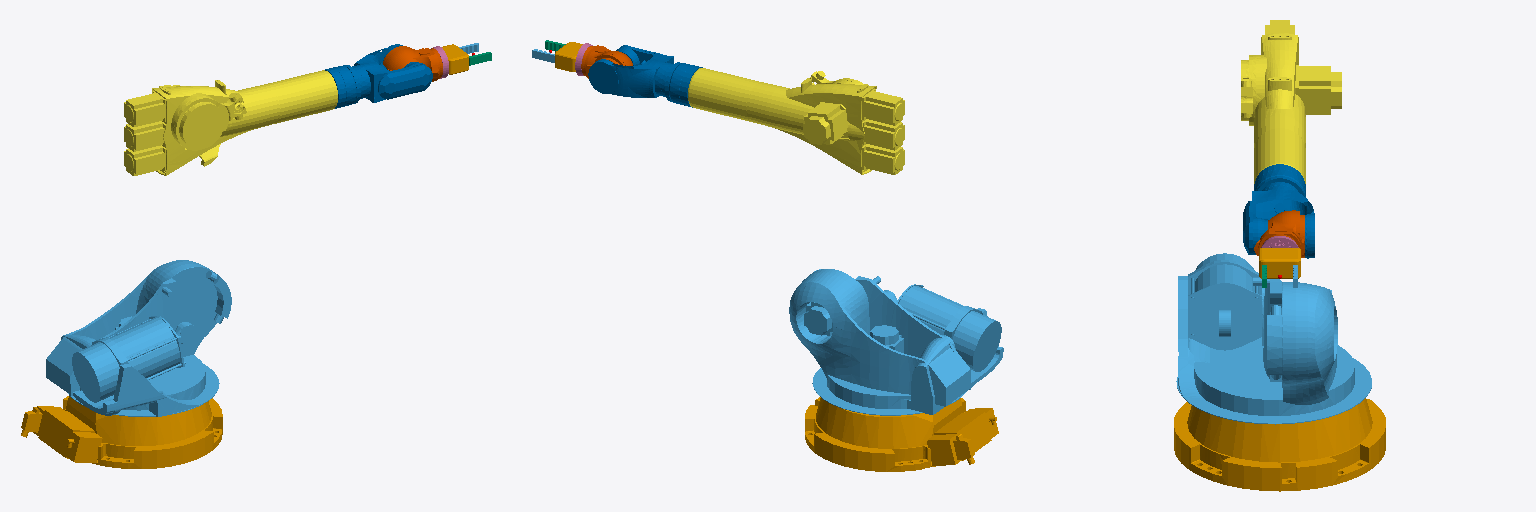
URDF robot description (robot):
<?xml version="1.0" encoding="utf-8"?>
<robot name="robot">
  <joint name="joint_1" type="revolute">
    <origin xyz="0. 0. 0.33" rpy="0. -1.5707964 0. " />
    <parent link="robot" />
    <child link="robot_kuka_arm_link_1_kuka_arm_link_1" />
    <axis xyz="1. 0. 0." />
    <limit lower="-3.2288596" upper="3.2288596" effort="0." velocity="17453.2925199" />
  </joint>
  <joint name="joint_2" type="revolute">
    <origin xyz="0.42 0. -0.35" rpy="1.5707964 0. 1.5707964" />
    <parent link="robot_kuka_arm_link_1_kuka_arm_link_1" />
    <child link="kuka_arm_link_2" />
    <axis xyz="1. 0. 0." />
    <limit lower="-0.785398" upper="1.48353" effort="0." velocity="17453.2925199" />
  </joint>
  <joint name="joint_3" type="revolute">
    <origin xyz="0. 0. 1.25" rpy="0. 0. 0." />
    <parent link="kuka_arm_link_2" />
    <child link="kuka_arm_link_3" />
    <axis xyz="1. 0. 0." />
    <limit lower="-3.6651898" upper="1.1344599" effort="0." velocity="17453.2925199" />
  </joint>
  <joint name="joint_4" type="revolute">
    <origin xyz="0. -0.9599999 -0.054 " rpy="0. 0. -1.5707964" />
    <parent link="kuka_arm_link_3" />
    <child link="kuka_arm_link_4" />
    <axis xyz="1. 0. 0." />
    <limit lower="-6.1086497" upper="6.1086497" effort="0." velocity="17453.2925199" />
  </joint>
  <joint name="joint_5" type="revolute">
    <origin xyz="0.54 0. 0. " rpy="0. 0. 1.5707964" />
    <parent link="kuka_arm_link_4" />
    <child link="kuka_arm_link_5" />
    <axis xyz="1. 0. 0." />
    <limit lower="-2.1816598" upper="2.1816598" effort="0." velocity="17453.2925199" />
  </joint>
  <joint name="joint_6" type="revolute">
    <origin xyz="0. -0.1930001 0. " rpy="0. 0. -1.5707964" />
    <parent link="kuka_arm_link_5" />
    <child link="kuka_arm_link_6" />
    <axis xyz="1. 0. 0." />
    <limit lower="-6.1086497" upper="6.1086497" effort="0." velocity="17453.2925199" />
  </joint>
  <joint name="left_gripper_finger_joint" type="prismatic">
    <origin xyz="0.26 0.0725 0. " rpy="3.1415927 0. -1.5707964" />
    <parent link="kuka_arm_link_6" />
    <child link="left_gripper_finger_link" />
    <axis xyz="1. 0. 0." />
    <limit lower="-0.01" upper="0.06" effort="0." velocity="1000000." />
  </joint>
  <joint name="right_gripper_finger_joint" type="prismatic">
    <origin xyz="0.26 -0.0725 0. " rpy="0. 0. 1.5707964" />
    <parent link="kuka_arm_link_6" />
    <child link="right_gripper_finger_link" />
    <axis xyz="1. 0. 0." />
    <limit lower="-0.01" upper="0.06" effort="0." velocity="1000000." />
  </joint>
  <link name="robot">
    <visual>
      <origin xyz="0. 0. 0." rpy="-0.0000091 0. 0. " />
      <geometry>
        <mesh filename="meshes/worldBody___visuals___mesh.obj" scale="1. 1. 1." />
      </geometry>
    </visual>
  </link>
  <link name="robot_kuka_arm_link_1_kuka_arm_link_1">
    <visual>
      <origin xyz="0. 0. 0." rpy="1.570788 1.5707964 0. " />
      <geometry>
        <mesh filename="meshes/robot_kuka_arm_link_1_kuka_arm_link_1_visuals_mesh.obj" scale="1. 1. 1." />
      </geometry>
    </visual>
    <visual>
      <origin xyz="0. 0. 0." rpy="1.570788 1.5707964 0. " />
      <geometry>
        <mesh filename="meshes/robot_kuka_arm_link_1_kuka_arm_link_1_collisions_mesh.obj" scale="1. 1. 1." />
      </geometry>
    </visual>
    <collision name="sphere_23">
      <origin xyz="0.3853171231791153 3.016968403539145e-18 -0.40294019359870453" rpy="0 0 0" />
      <geometry>
        <sphere radius="0.2969944905889949" />
      </geometry>
    </collision>
    <collision name="sphere_24">
      <origin xyz="0.3039056973264224 0.11361252012600448 0.26311786827710804" rpy="0 0 0" />
      <geometry>
        <sphere radius="0.3855194494710704" />
      </geometry>
    </collision>
    <collision name="sphere_25">
      <origin xyz="0.22964270798733716 -0.200145579561204 0.3321878437575019" rpy="0 0 0" />
      <geometry>
        <sphere radius="0.33548914118220985" />
      </geometry>
    </collision>
    <collision name="sphere_26">
      <origin xyz="0.35967081545282925 -0.27340428279409357 -0.03932870071404963" rpy="0 0 0" />
      <geometry>
        <sphere radius="0.24332780241870738" />
      </geometry>
    </collision>
    <collision name="sphere_27">
      <origin xyz="0.3497125792823665 0.1622123310040399 -0.07363408827195533" rpy="0 0 0" />
      <geometry>
        <sphere radius="0.3158090818304898" />
      </geometry>
    </collision>
  </link>
  <link name="kuka_arm_link_2">
    <visual>
      <origin xyz="0. 0. 0." rpy="-0.0000091 0. -1.5707964" />
      <geometry>
        <mesh filename="meshes/kuka_arm_link_2_visuals_mesh.obj" scale="1. 1. 1." />
      </geometry>
    </visual>
    <collision name="sphere_0">
      <origin xyz="-0.10056914088729499 0.0 0.0" rpy="0 0 0" />
      <geometry>
        <sphere radius="0.312562771404809" />
      </geometry>
    </collision>
    <collision name="sphere_1">
      <origin xyz="-0.20296284362704328 -5.551115123125783e-17 0.19267381739225486" rpy="0 0 0" />
      <geometry>
        <sphere radius="0.2882773280117739" />
      </geometry>
    </collision>
    <collision name="sphere_2">
      <origin xyz="-0.2688235077381462 0.0 0.5120850632241715" rpy="0 0 0" />
      <geometry>
        <sphere radius="0.2599685374907719" />
      </geometry>
    </collision>
    <collision name="sphere_3">
      <origin xyz="-0.2429457297559245 -1.6653345369377348e-16 0.7897212102688002" rpy="0 0 0" />
      <geometry>
        <sphere radius="0.25693811033217645" />
      </geometry>
    </collision>
    <collision name="sphere_4">
      <origin xyz="-0.2322697986708392 0.0 1.0466995171922129" rpy="0 0 0" />
      <geometry>
        <sphere radius="0.25693811033217645" />
      </geometry>
    </collision>
    <collision name="sphere_5">
      <origin xyz="-0.2018643112478043 -5.551115123125783e-17 1.2173413182504351" rpy="0 0 0" />
      <geometry>
        <sphere radius="0.23358661898327102" />
      </geometry>
    </collision>
  </link>
  <link name="kuka_arm_link_3">
    <visual>
      <origin xyz="-0.184 0. 0. " rpy="-0.0000091 0. -1.5707964" />
      <geometry>
        <mesh filename="meshes/kuka_arm_link_3_visuals_mesh.obj" scale="1. 1. 1." />
      </geometry>
    </visual>
    <collision name="sphere_6">
      <origin xyz="-1.3010518714054659e-17 0.31055029167029724 -0.03488192925599143" rpy="0 0 0" />
      <geometry>
        <sphere radius="0.32892536519372145" />
      </geometry>
    </collision>
    <collision name="sphere_7">
      <origin xyz="-0.010269733629968511 5.551115123125783e-17 0.0" rpy="0 0 0" />
      <geometry>
        <sphere radius="0.37246399938456065" />
      </geometry>
    </collision>
    <collision name="sphere_8">
      <origin xyz="-0.004899208735049537 -0.4036089099633981 -0.02669932418063703" rpy="0 0 0" />
      <geometry>
        <sphere radius="0.20655031539590454" />
      </geometry>
    </collision>
    <collision name="sphere_9">
      <origin xyz="-2.775566825985752e-17 -0.650587462939314 -0.05279828184548685" rpy="0 0 0" />
      <geometry>
        <sphere radius="0.20655031539590454" />
      </geometry>
    </collision>
    <collision name="sphere_10">
      <origin xyz="-1.3877880452043063e-17 -0.8658041427243452 -0.05263752410922362" rpy="0 0 0" />
      <geometry>
        <sphere radius="0.20655031539590454" />
      </geometry>
    </collision>
  </link>
  <link name="kuka_arm_link_4">
    <visual>
      <origin xyz="0. 0. 0." rpy="-0.0000091 0. 0. " />
      <geometry>
        <mesh filename="meshes/kuka_arm_link_4_visuals_mesh.obj" scale="1. 1. 1." />
      </geometry>
    </visual>
    <collision name="sphere_11">
      <origin xyz="0.047247304363761344 8.326678640389084e-17 -2.220446049250313e-16" rpy="0 0 0" />
      <geometry>
        <sphere radius="0.1794211617259098" />
      </geometry>
    </collision>
    <collision name="sphere_12">
      <origin xyz="0.3010660948523467 1.3877793763514867e-16 -4.440892098500626e-16" rpy="0 0 0" />
      <geometry>
        <sphere radius="0.1794211617259098" />
      </geometry>
    </collision>
    <collision name="sphere_13">
      <origin xyz="0.49201724313219164 2.775563517263302e-17 -2.220446049250313e-16" rpy="0 0 0" />
      <geometry>
        <sphere radius="0.24607203187629179" />
      </geometry>
    </collision>
  </link>
  <link name="kuka_arm_link_5">
    <visual>
      <origin xyz="0. 0.0000001 0. " rpy="-0.0000091 0. -1.5707964" />
      <geometry>
        <mesh filename="meshes/kuka_arm_link_5_visuals_mesh.obj" scale="1. 1. 1." />
      </geometry>
    </visual>
    <collision name="sphere_14">
      <origin xyz="-0.00517521934122922 -0.06717495437991183 2.220446049250313e-16" rpy="0 0 0" />
      <geometry>
        <sphere radius="0.2125868474637989" />
      </geometry>
    </collision>
  </link>
  <link name="kuka_arm_link_6">
    <visual>
      <origin xyz="0.0000001 0. 0. " rpy="1.570788 0. 0. " />
      <geometry>
        <mesh filename="meshes/kuka_arm_link_6_visuals_mesh.obj" scale="1. 1. 1." />
      </geometry>
    </visual>
  </link>
  <link name="gripper_tcp">
    <visual>
      <origin xyz="0.15 0 -0.05" rpy="0 0 0" />
      <geometry>
        <sphere radius="0.01" />
      </geometry>
      <material name="red">
        <color rgba="1 0 0 1" />
      </material>
    </visual>
  </link>
  <link name="gripper_link">
    <inertial>
      <origin rpy="0 0 0" xyz="0 0 0" />
      <mass value="0.3" />
      <inertia ixx="0.0001" ixy="0" ixz="0" iyy="0.0002" iyz="0" izz="0.0001" />
    </inertial>
    <visual>
      <origin rpy="0 0 0" xyz="0 0 0" />
      <geometry>
        <mesh filename="meshes/kuka_arm_link_6_visuals_gripper_base_mesh.obj" />
      </geometry>
    </visual>
    <collision name="sphere_15">
      <origin xyz="-0.008610050657241963 2.220446049250313e-16 5.789639601072594e-17" rpy="0 0 0" />
      <geometry>
        <sphere radius="0.12986939348734478" />
      </geometry>
    </collision>
  </link>
  <joint name="gripper_tcp_joint" type="fixed">
    <origin rpy="0 0 0" xyz="0 0 0.05" />
    <parent link="gripper_link" />
    <child link="gripper_tcp" />
  </joint>
  <joint name="gripper_joint" type="fixed">
    <parent link="kuka_arm_link_6" />
    <child link="gripper_link" />
    <origin rpy="1.57 0 0" xyz="0.11 0 0" />
    <axis xyz="0 1 0" />
  </joint>
  <link name="left_gripper_finger_link">
    <visual>
      <origin xyz="0. 0. 0." rpy="-1.5708046 0. -1.5707964" />
      <geometry>
        <mesh filename="meshes/left_gripper_finger_link_visuals_mesh.obj" scale="1. 1. 1." />
      </geometry>
    </visual>
    <collision name="sphere_19">
      <origin xyz="-0.0009867102377992681 0.028810712307991704 0.0" rpy="0 0 0" />
      <geometry>
        <sphere radius="0.029496874713989374" />
      </geometry>
    </collision>
    <collision name="sphere_20">
      <origin xyz="-0.0007529923397825294 4.440892098500626e-16 -2.220446049250313e-16" rpy="0 0 0" />
      <geometry>
        <sphere radius="0.029496874713989374" />
      </geometry>
    </collision>
    <collision name="sphere_21">
      <origin xyz="-0.0014462733000717848 -0.027893947890389903 0.0" rpy="0 0 0" />
      <geometry>
        <sphere radius="0.029496874713989374" />
      </geometry>
    </collision>
    <collision name="sphere_22">
      <origin xyz="-7.881778214532259e-05 -0.06047734771457369 0.00014119311356375341" rpy="0 0 0" />
      <geometry>
        <sphere radius="0.029496874713989374" />
      </geometry>
    </collision>
  </link>
  <link name="right_gripper_finger_link">
    <visual>
      <origin xyz="0. 0. 0." rpy="1.570788 0. -1.5707964" />
      <geometry>
        <mesh filename="meshes/right_gripper_finger_link_visuals_mesh.obj" scale="1. 1. 1." />
      </geometry>
    </visual>
    <collision name="sphere_16">
      <origin xyz="0.005412433844058935 0.01492794005638931 4.440892098500626e-16" rpy="0 0 0" />
      <geometry>
        <sphere radius="0.03133081721050732" />
      </geometry>
    </collision>
    <collision name="sphere_17">
      <origin xyz="0.004998117508912749 -0.02704602253331334 -2.220446049250313e-16" rpy="0 0 0" />
      <geometry>
        <sphere radius="0.03133081721050732" />
      </geometry>
    </collision>
    <collision name="sphere_18">
      <origin xyz="0.0014777731542005637 -0.06054847324793933 0.0005669492960314049" rpy="0 0 0" />
      <geometry>
        <sphere radius="0.03133081721050732" />
      </geometry>
    </collision>
  </link>
</robot>

--- Facts derived from the render (not from the file) ---
Views: 3 orthographic renders of the robot side by side, from view 1: azimuth 30°, elevation 25°; view 2: azimuth 150°, elevation 25°; view 3: azimuth 270°, elevation 25°.
Model robot with 11 links and 10 joints (6 revolute, 2 prismatic, 2 fixed), rooted at robot, posed every joint at zero.
Visible links, largest first — view 1: robot_kuka_arm_link_1_kuka_arm_link_1, kuka_arm_link_3, robot, kuka_arm_link_4, kuka_arm_link_5, gripper_link; view 2: robot_kuka_arm_link_1_kuka_arm_link_1, kuka_arm_link_3, robot, kuka_arm_link_4, kuka_arm_link_5, gripper_link; view 3: robot_kuka_arm_link_1_kuka_arm_link_1, robot, kuka_arm_link_3, kuka_arm_link_4, kuka_arm_link_5, gripper_link.
Link boxes in pixels (x1,y1,x2,y2): robot_kuka_arm_link_1_kuka_arm_link_1: (46, 260, 231, 416); kuka_arm_link_3: (124, 70, 337, 175); robot: (21, 396, 222, 468); kuka_arm_link_4: (325, 44, 432, 108); kuka_arm_link_5: (383, 46, 442, 81); gripper_link: (442, 44, 468, 74); robot_kuka_arm_link_1_kuka_arm_link_1: (789, 269, 1003, 415); kuka_arm_link_3: (688, 68, 904, 174); robot: (805, 397, 998, 471); kuka_arm_link_4: (588, 45, 702, 107); kuka_arm_link_5: (581, 45, 632, 78); gripper_link: (555, 42, 582, 71); robot_kuka_arm_link_1_kuka_arm_link_1: (1176, 253, 1371, 424); robot: (1174, 398, 1385, 491); kuka_arm_link_3: (1241, 20, 1341, 183); kuka_arm_link_4: (1243, 164, 1314, 258); kuka_arm_link_5: (1254, 210, 1304, 257); gripper_link: (1259, 248, 1300, 278).
Size in the robot's own frame: 3.06 by 0.9994 by 2.21 metres.
Meshes: 11 distinct files referenced, 10 mesh visuals loaded (10 OBJ); not drawn: 1 (reference not matched to a file when rendering).